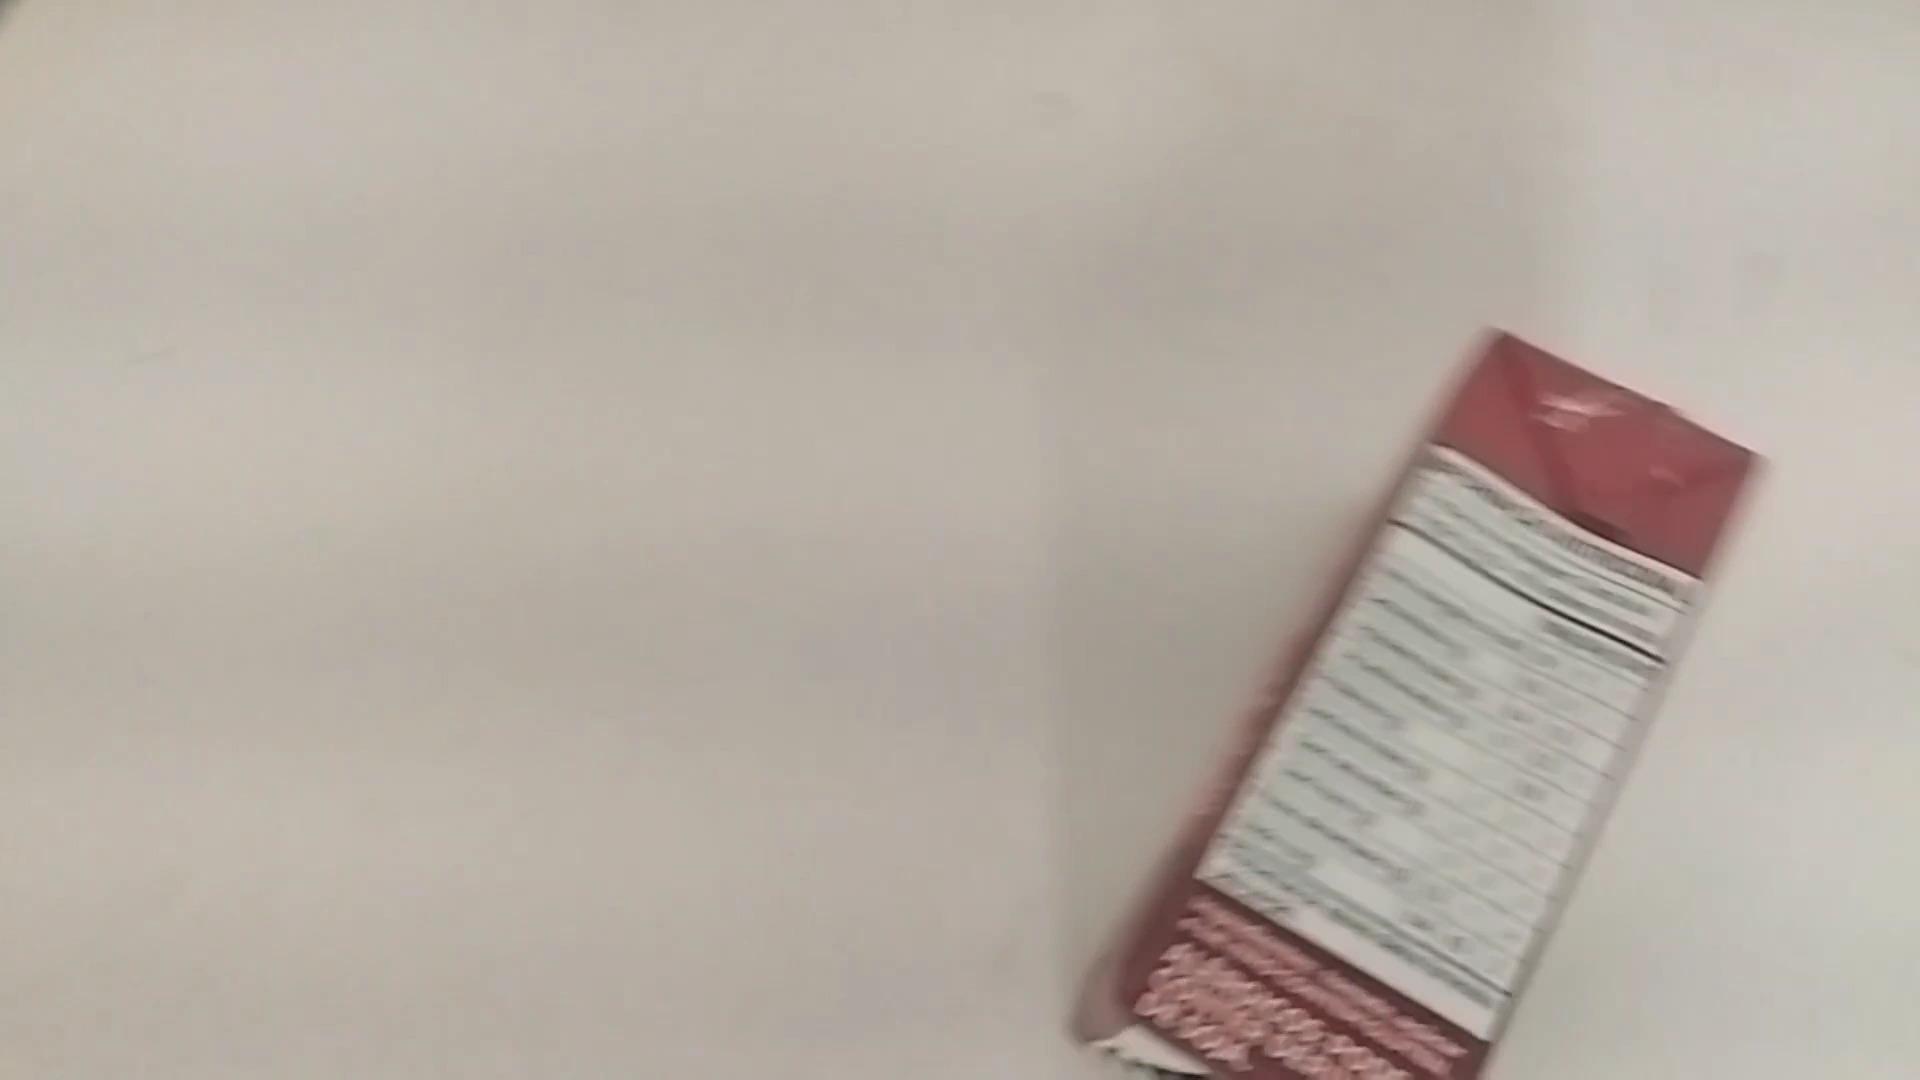tomate: (1004, 290, 1866, 1077)
